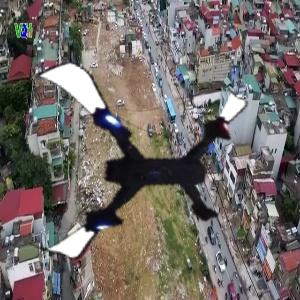drone: (19, 62, 241, 284)
